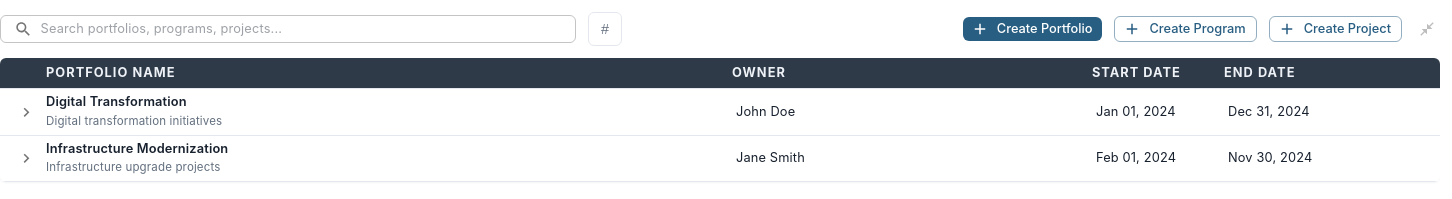
PortfoliosListPage › the ID (#) toggle turns the (business_id) prefixes on and off
Expected: the text "Digital Transformation" is shown, [46,94,187,109]
Expected: the text "(010000001) Digital Transformation" is not shown
Click the button named "toggle id mode".
click(605, 29)  # box [588,12,622,46]
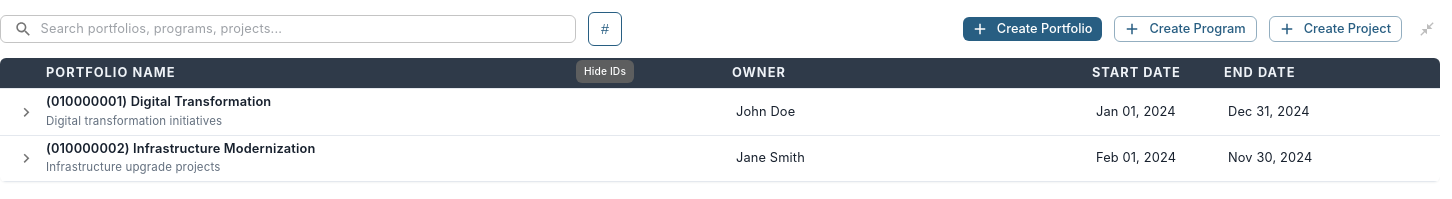
Expected: the text "(010000001) Digital Transformation" is shown, [46,94,271,109]
Click the button named "toggle id mode".
click(605, 29)  # box [588,12,622,46]
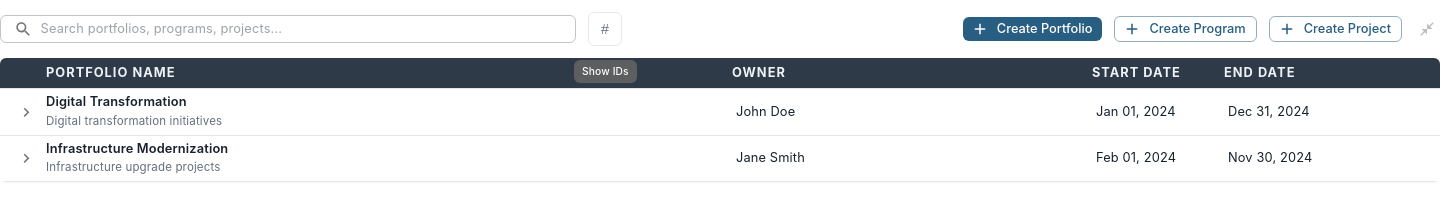
Expected: the text "(010000001) Digital Transformation" is gone
